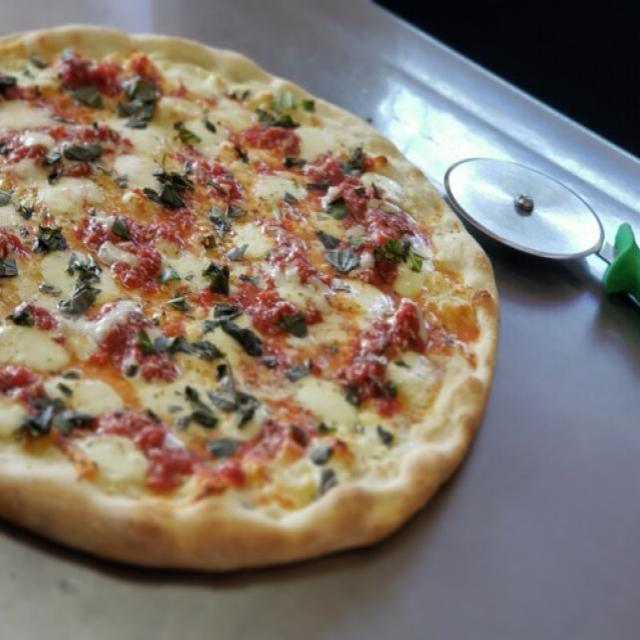basil: (204, 296, 281, 368), (17, 394, 98, 441), (210, 353, 260, 428), (54, 249, 102, 320), (156, 321, 224, 364), (143, 158, 197, 211), (41, 141, 104, 186), (116, 68, 160, 132), (315, 227, 364, 277), (168, 386, 218, 434), (382, 230, 428, 280), (18, 219, 70, 262), (202, 196, 248, 238), (265, 82, 315, 118), (250, 102, 300, 132), (198, 258, 233, 296), (338, 136, 366, 182), (276, 305, 312, 340), (148, 255, 182, 288), (67, 80, 102, 112), (129, 321, 156, 362), (364, 370, 402, 399), (161, 285, 196, 316), (202, 435, 242, 461), (282, 351, 313, 384), (2, 295, 34, 326), (204, 165, 238, 193), (51, 370, 78, 405), (168, 119, 202, 146), (318, 194, 348, 224), (305, 413, 337, 439), (34, 274, 64, 299), (108, 212, 131, 244), (299, 176, 331, 198), (324, 271, 351, 297), (310, 441, 334, 470), (224, 82, 252, 106), (228, 136, 250, 166), (280, 150, 308, 172), (340, 379, 361, 408), (198, 105, 217, 137), (0, 70, 17, 104), (222, 240, 245, 265), (1, 255, 20, 284), (121, 352, 140, 381), (317, 470, 339, 495), (374, 422, 394, 448), (280, 183, 297, 209), (28, 51, 48, 73), (16, 200, 34, 220), (238, 268, 259, 284), (0, 187, 13, 210), (199, 230, 215, 248)
pizza: (0, 26, 499, 568)
